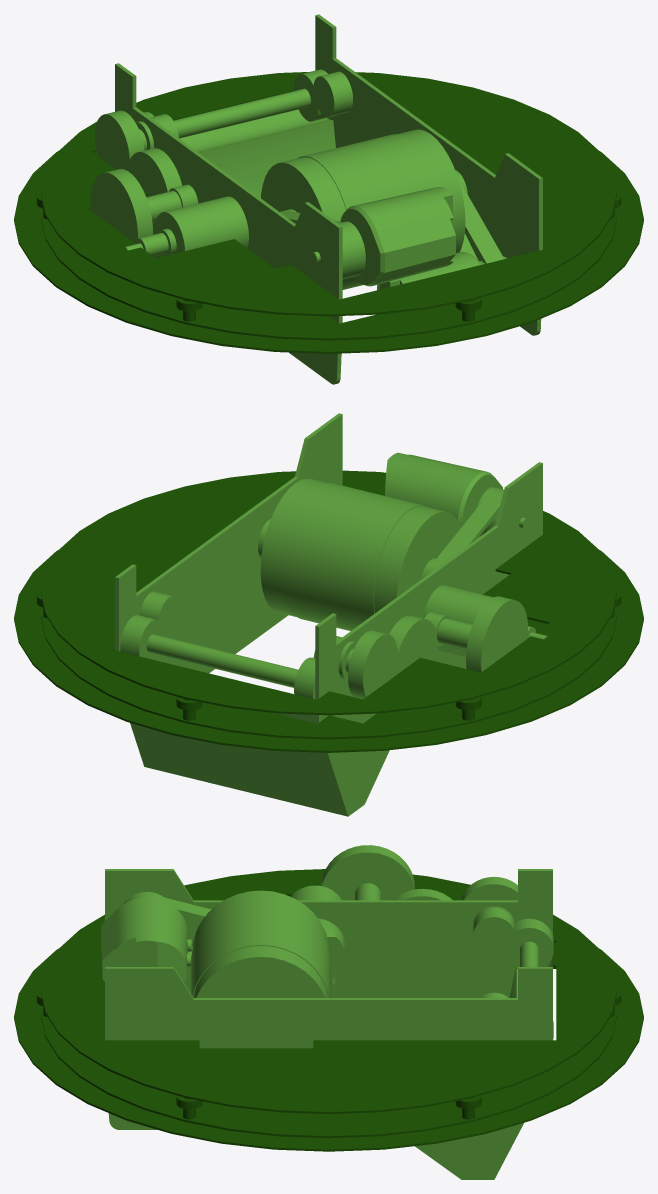
The picture shows the model from 3 angles, top to bottom: view 1: azimuth 30°, elevation 25°; view 2: azimuth 150°, elevation 25°; view 3: azimuth 270°, elevation 25°; orthographic projection.
Visible parts, largest first — view 1: BLOCK CAD: Launcher, Top Structure, BLOCK CAD: Launcher; view 2: BLOCK CAD: Launcher, BLOCK CAD: Launcher, Top Structure; view 3: BLOCK CAD: Launcher, BLOCK CAD: Launcher, Top Structure.
Part boxes in pixels (x1,y1,x2,y2): BLOCK CAD: Launcher, Top Structure: (14, 72, 643, 353); BLOCK CAD: Launcher: (91, 14, 542, 384); BLOCK CAD: Launcher: (115, 413, 547, 816); BLOCK CAD: Launcher, Top Structure: (14, 470, 643, 752); BLOCK CAD: Launcher: (101, 845, 553, 1179); BLOCK CAD: Launcher, Top Structure: (14, 869, 643, 1151).
Size of the model in its own units: 0.4586 by 0.1696 by 0.4586.
